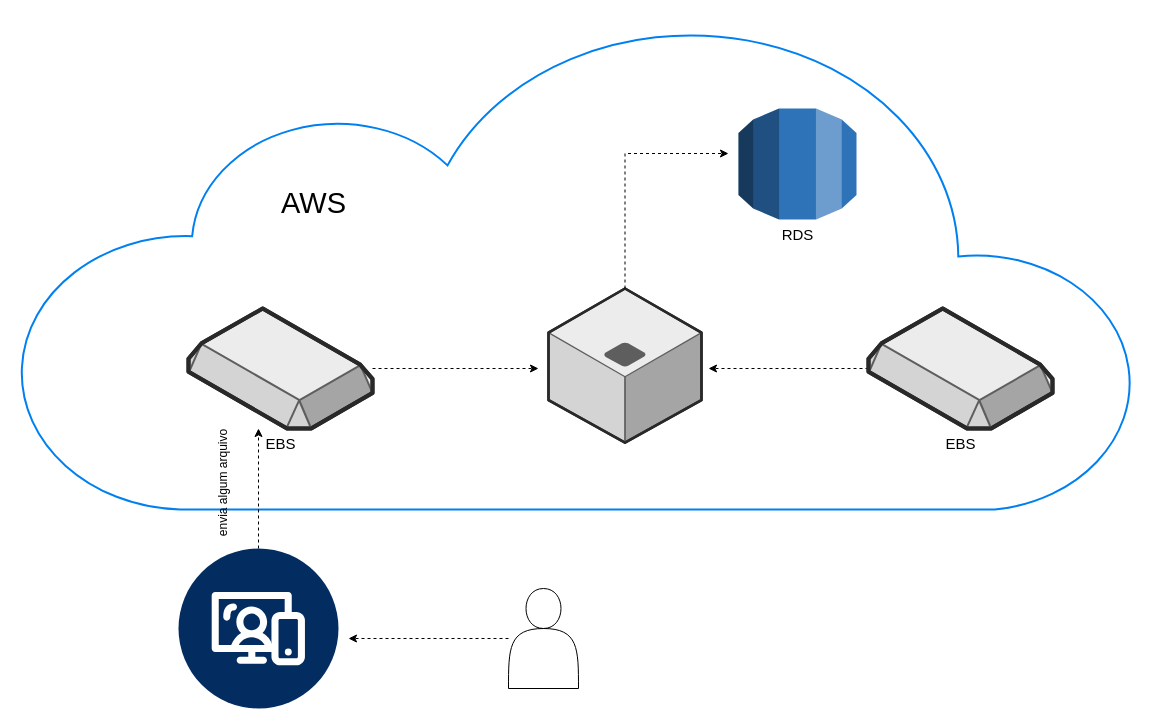
Some shapes in this 1156 by 725 pixel diagram are drawn without their labels. The shapes that lost their labels are listed below. From the top down, each one's box as (x1, y1, x2, y2) in pixels, then its label:
(548, 288, 702, 443): EC2
(508, 588, 578, 688): user
